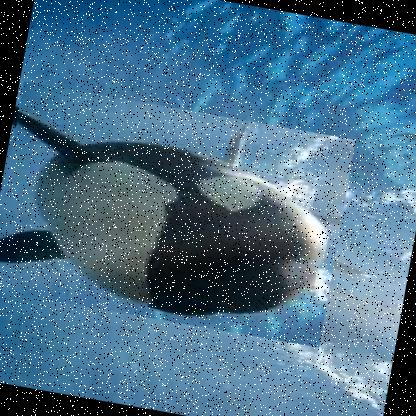killer_whale: (0, 78, 356, 346)
